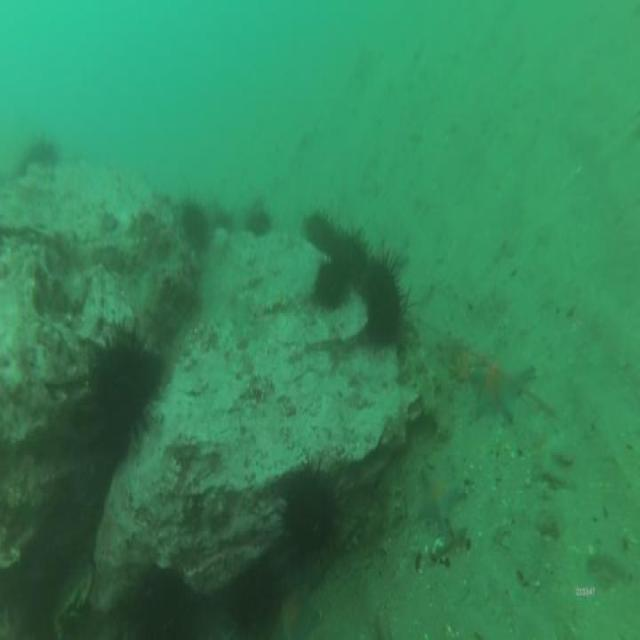echinus: (95, 338, 154, 439), (286, 472, 332, 550), (228, 564, 278, 632), (363, 269, 406, 341), (140, 569, 190, 629), (312, 258, 346, 310), (335, 238, 372, 284), (182, 199, 212, 247), (305, 215, 340, 250), (22, 142, 58, 171), (246, 208, 268, 238)
holothurian: (356, 477, 398, 553), (404, 338, 434, 419)
scallop: (430, 532, 450, 558)
starfish: (474, 362, 527, 420), (420, 464, 464, 528)
